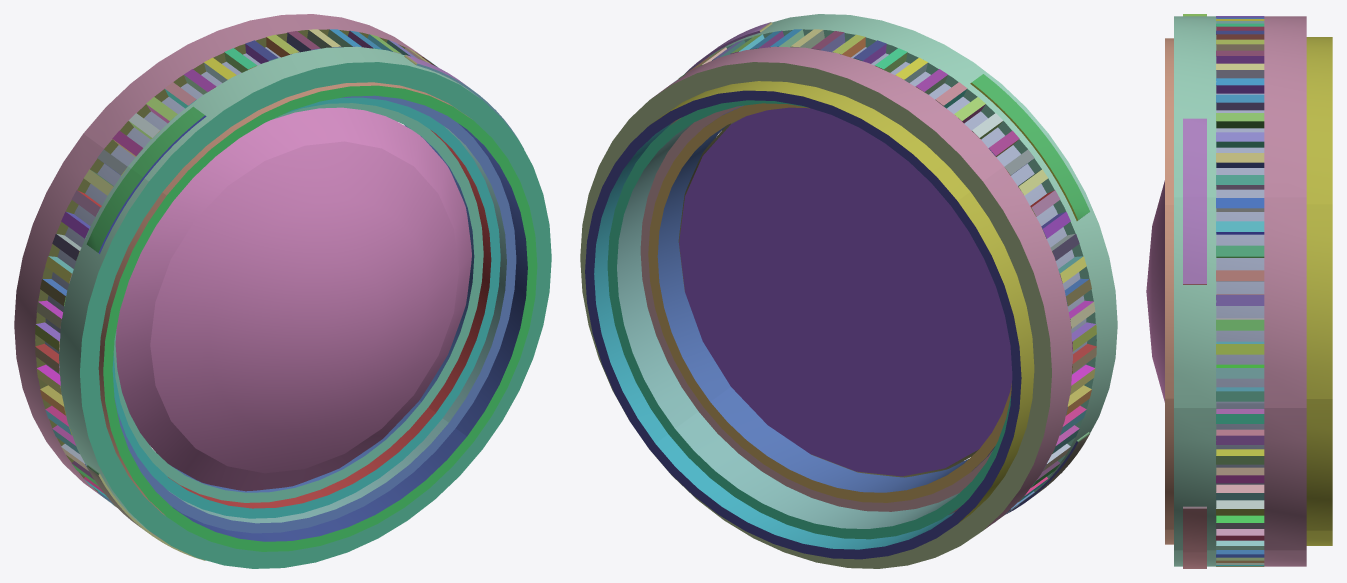
File: module-renderer-01.glb
3 renders of one model, left to right at view 1: azimuth 30°, elevation 25°; view 2: azimuth 150°, elevation 25°; view 3: azimuth 270°, elevation 25°, orthographic.
Size of the model in its own units: 2.03 by 2.03 by 0.686.
